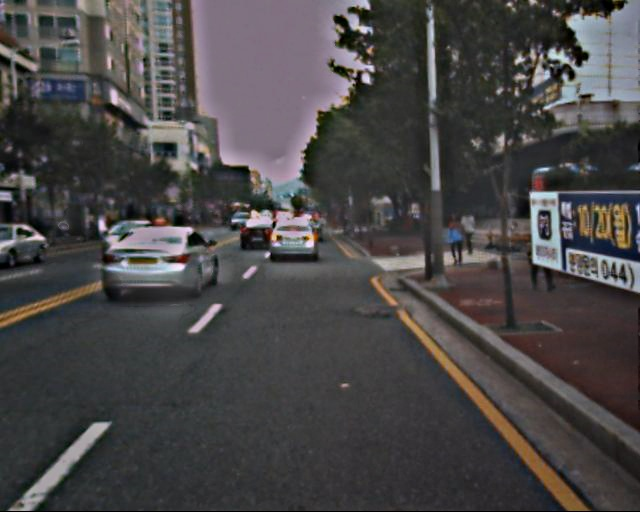person: (526, 214, 559, 294), (458, 205, 479, 256), (446, 216, 467, 267)
